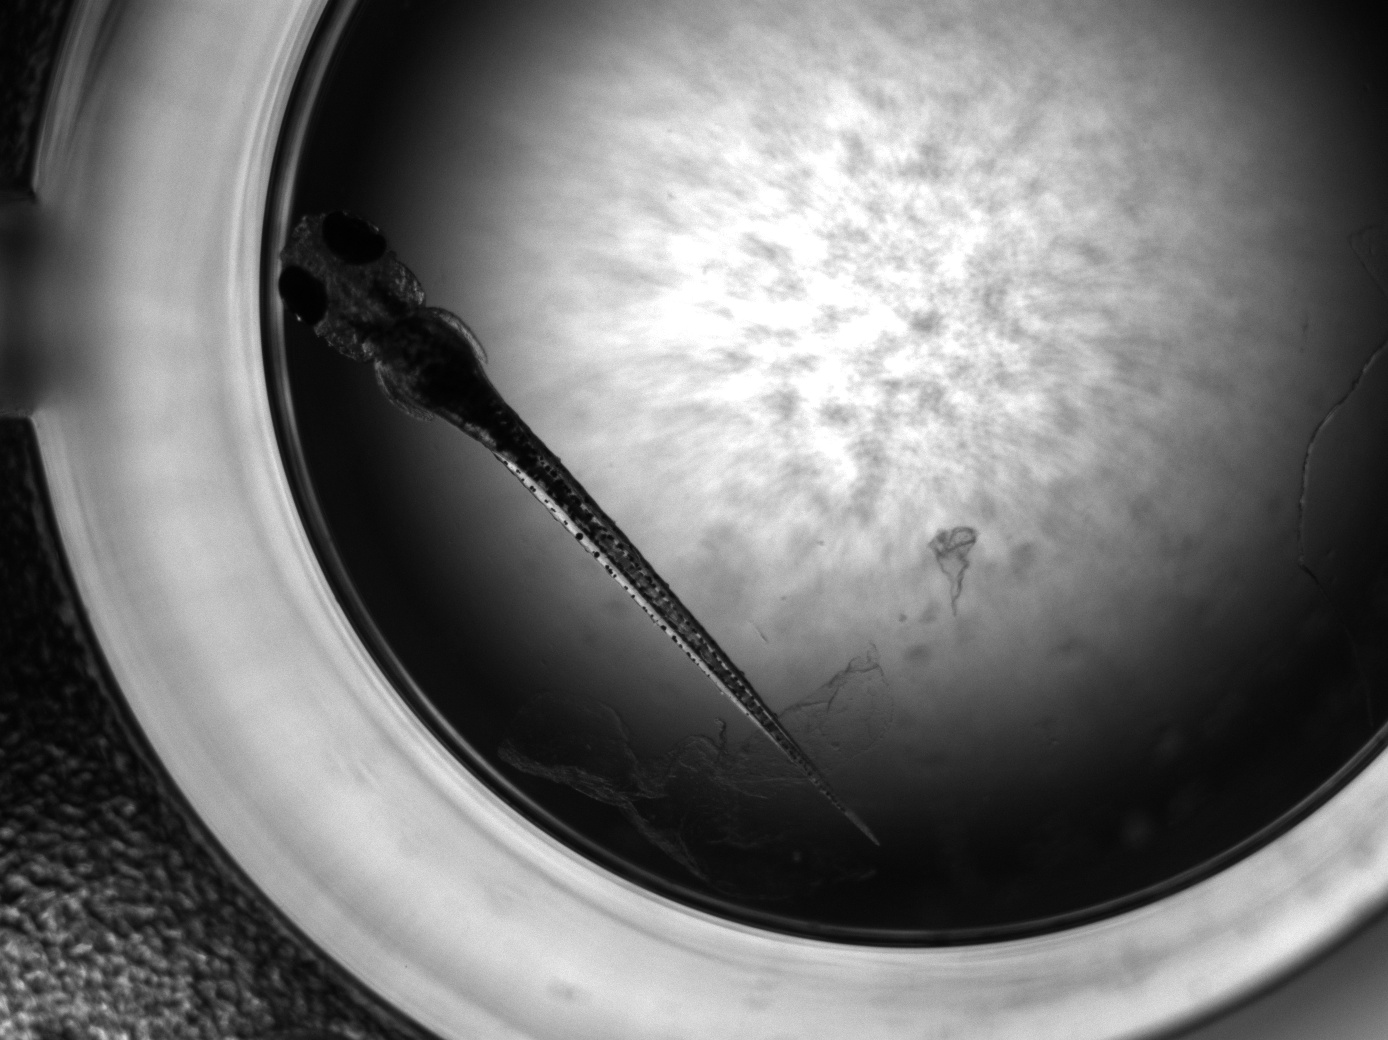debris: (493, 639, 886, 890), (927, 525, 980, 615)
embryo: (278, 211, 883, 850)
eye: (322, 213, 387, 265), (278, 267, 328, 327)
yolksac: (375, 309, 502, 444)
